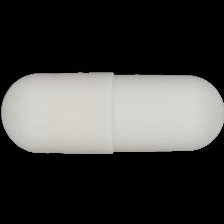59762-2003: (0, 0, 224, 224)
